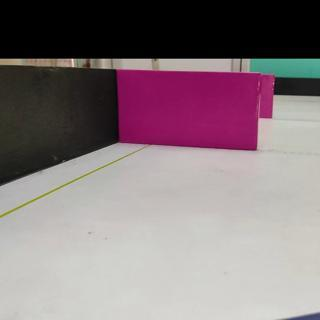xparking: (121, 71, 257, 149)
